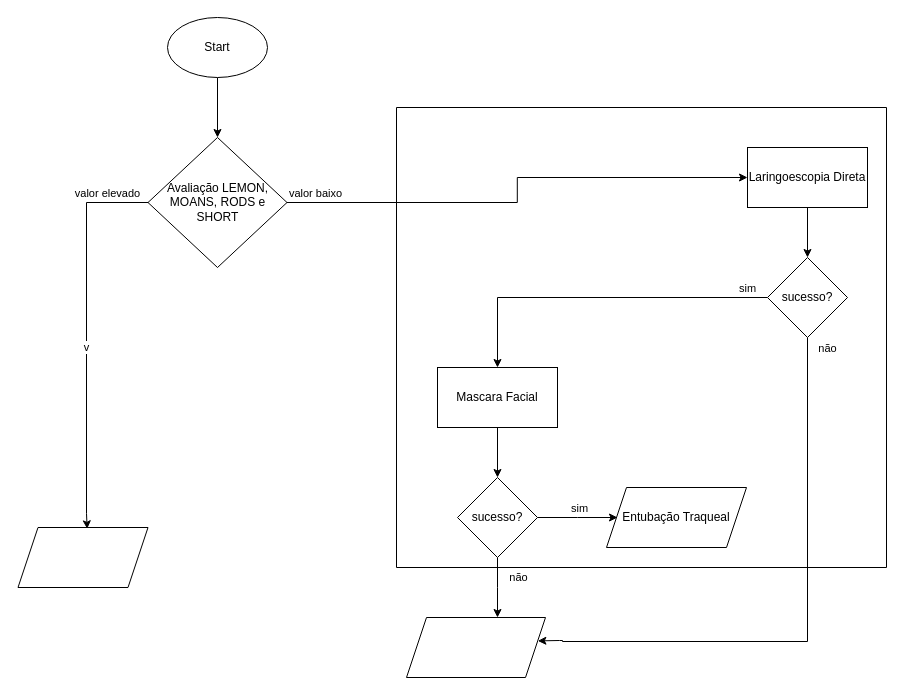
Image size: 904x695. Some labels were removed from this diagram. The centre of each missing label's shape, as x and y in pixels:
Via Aérea Difícil Não Previsível: point 476,647
Via Aérea Difícil Previsível: point 82,557
Via Aérea por Laringoscopia Direta: point 641,337
